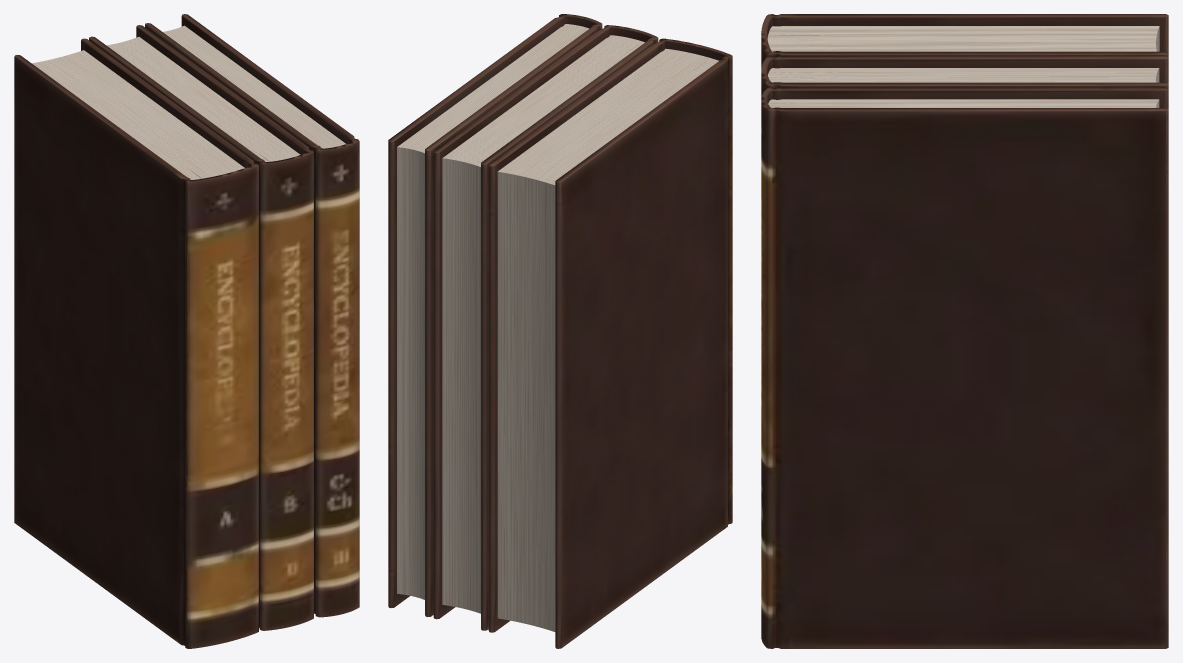
Rendered from book_encyclopedia_set_01.glb.
The picture shows the model from 3 angles, left to right: view 1: azimuth 30°, elevation 25°; view 2: azimuth 150°, elevation 25°; view 3: azimuth 270°, elevation 25°; orthographic projection. The views are drawn at different scales.
Visible parts, largest first — view 1: book_encyclopedia_set_01_book01, book_encyclopedia_set_01_book02, book_encyclopedia_set_01_book03; view 2: book_encyclopedia_set_01_book01, book_encyclopedia_set_01_book02, book_encyclopedia_set_01_book03; view 3: book_encyclopedia_set_01_book03, book_encyclopedia_set_01_book01, book_encyclopedia_set_01_book02.
Part boxes in pixels (<box>): book_encyclopedia_set_01_book01: <box>14,38,258,648</box>; book_encyclopedia_set_01_book02: <box>89,25,313,630</box>; book_encyclopedia_set_01_book03: <box>145,14,359,617</box>; book_encyclopedia_set_01_book01: <box>488,38,732,648</box>; book_encyclopedia_set_01_book02: <box>433,25,658,630</box>; book_encyclopedia_set_01_book03: <box>388,14,602,616</box>; book_encyclopedia_set_01_book03: <box>761,87,1168,648</box>; book_encyclopedia_set_01_book01: <box>761,14,1168,67</box>; book_encyclopedia_set_01_book02: <box>761,56,1168,96</box>.
Bounding box in the file's own units: 0.0923 × 0.2374 × 0.1631.
Materials: 2 (2 with a texture image).
